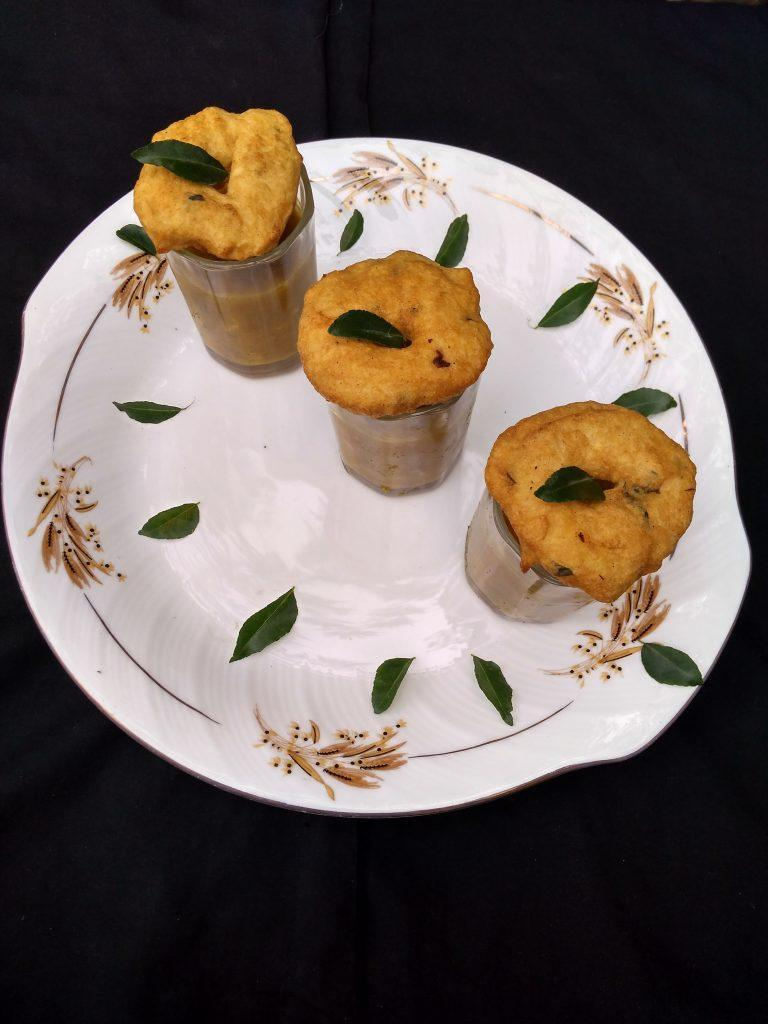mvada: (484, 393, 698, 601), (291, 246, 493, 415), (131, 96, 304, 258)
